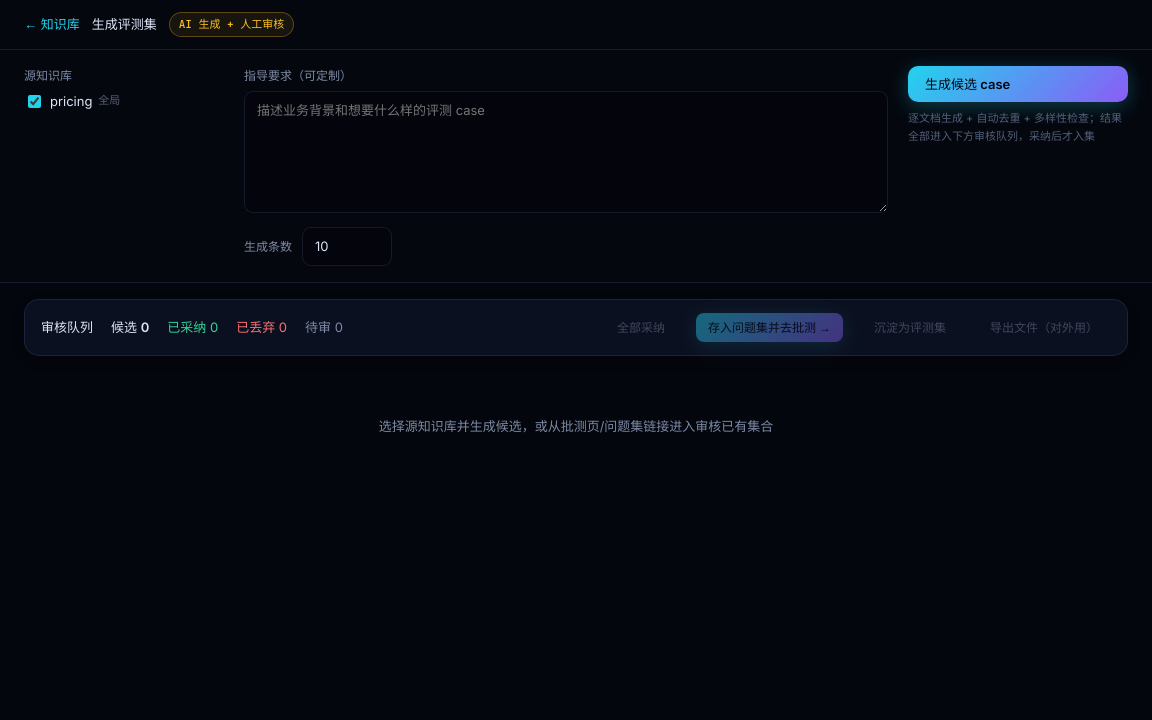
Test: KbGeneratePage › starts a generate job, polls it and loads the resulting queue
What coordinates should you click on to do the following:
click the button with test id "run-generate"
I would click on:
 (1018, 84)
Its box is [908,66,1128,102].
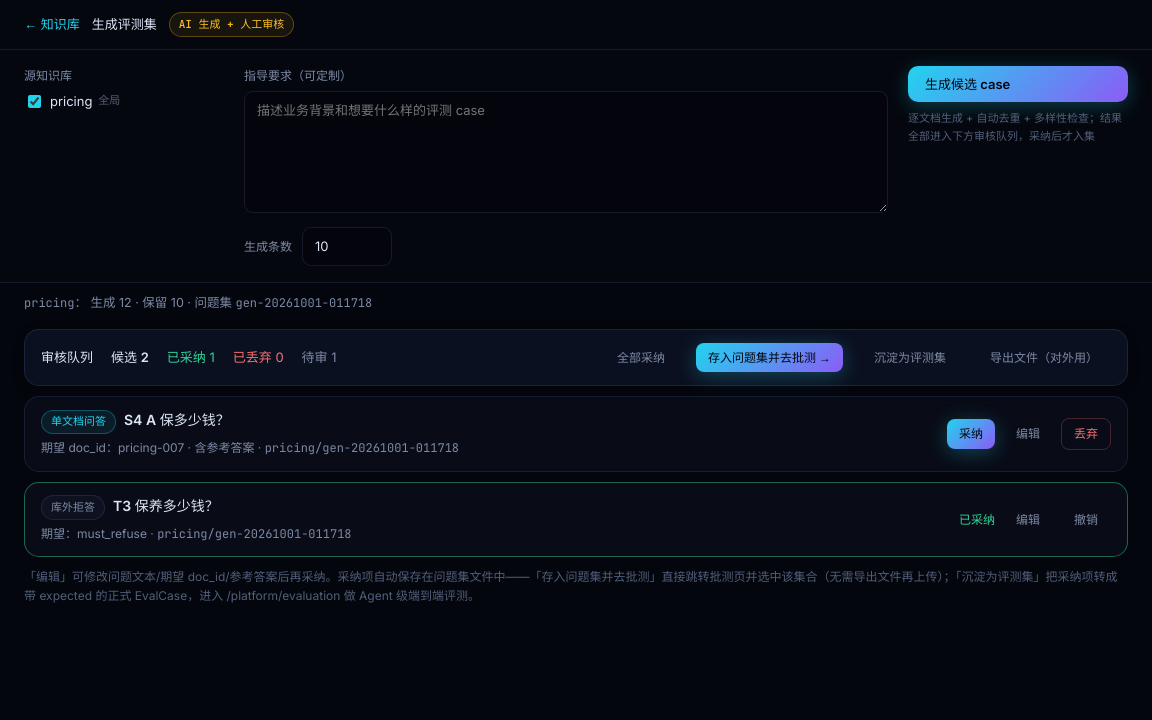
Expected: the text "生成 12 · 保留 10" is shown, [90,295,235,310]
Expected: the text "S4 A 保多少钱？" is shown, [124,411,230,428]
